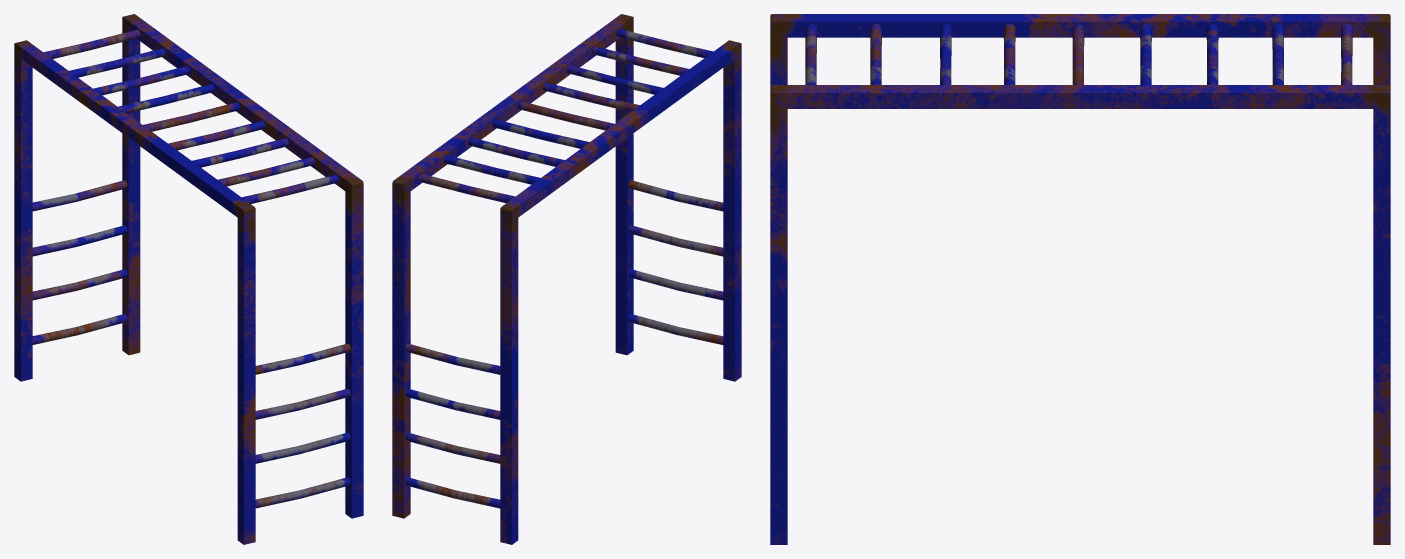
File: Monkey_Bars.fbx
3 renders of one model, left to right at view 1: azimuth 30°, elevation 25°; view 2: azimuth 150°, elevation 25°; view 3: azimuth 270°, elevation 25°, orthographic. The views are drawn at different scales.
Visible parts, largest first — view 1: MonkeyBars_Model; view 2: MonkeyBars_Model; view 3: MonkeyBars_Model.
Boxes of the visible parts, x1=… form: MonkeyBars_Model: x1=14, y1=14, x2=363, y2=544; MonkeyBars_Model: x1=392, y1=14, x2=741, y2=544; MonkeyBars_Model: x1=770, y1=14, x2=1390, y2=544.
Size of the model in its own units: 36.12 by 120 by 96.53.
